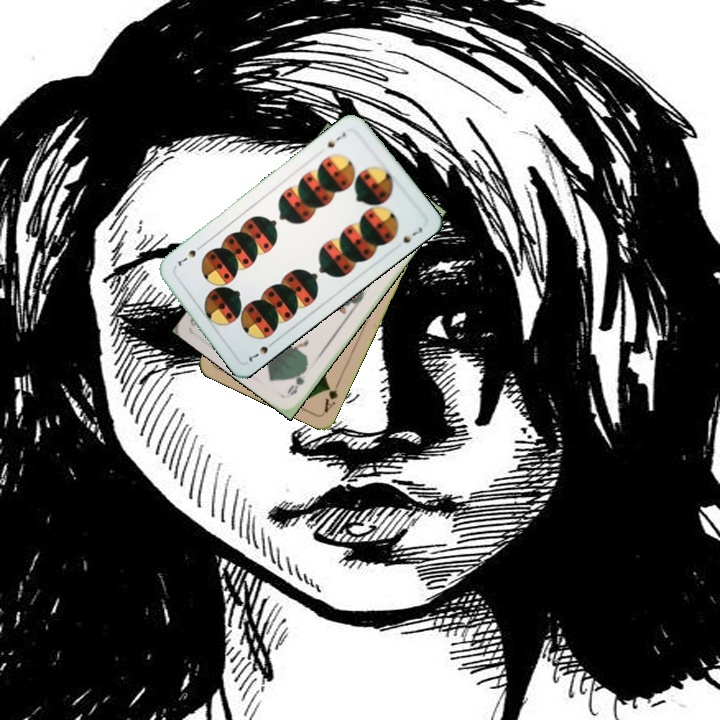GA: (320, 376, 343, 415)
GO: (283, 362, 310, 398)
S7: (245, 336, 278, 365), (323, 128, 348, 150)
